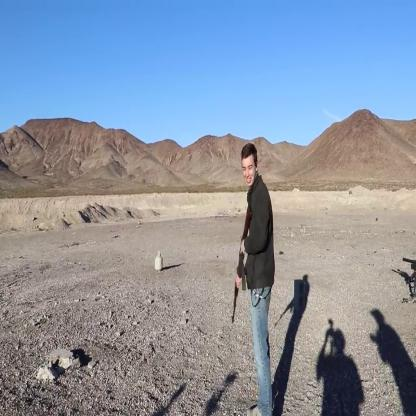long weapon: (224, 204, 257, 324)
